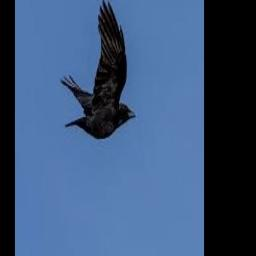Crow: (61, 0, 136, 138)
